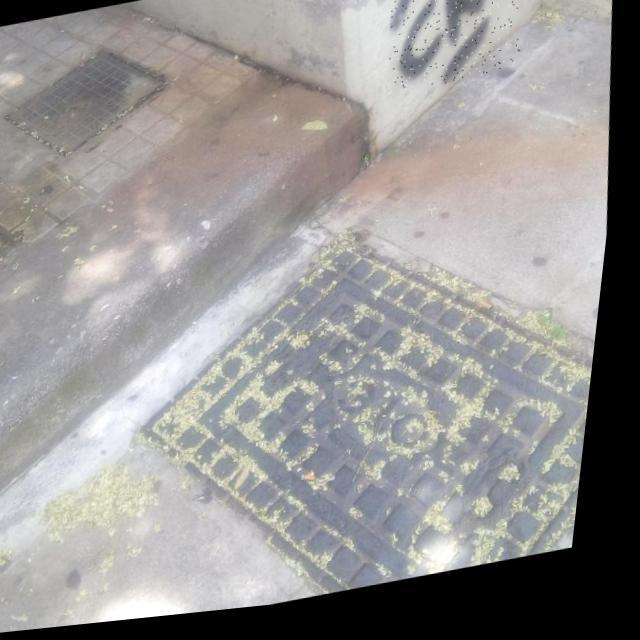-: (378, 0, 532, 103)
